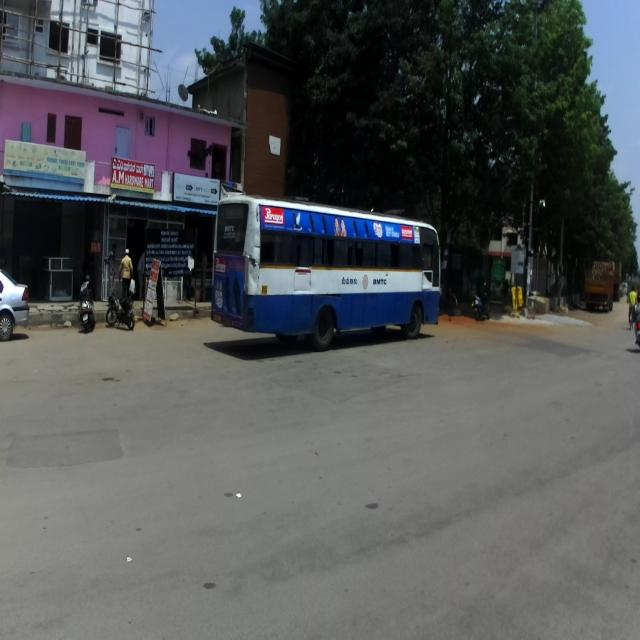bus: (210, 193, 441, 350)
motorcycle: (103, 287, 137, 329)
scooter: (76, 275, 98, 335)
